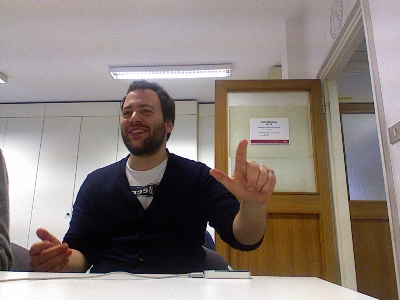枪: (207, 138, 276, 205)
